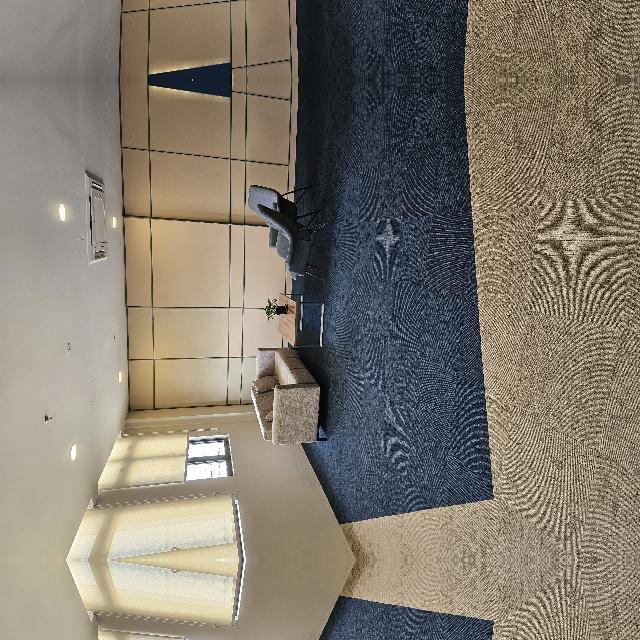obstacle: (279, 323, 375, 409), (108, 328, 212, 402), (215, 345, 268, 403)
